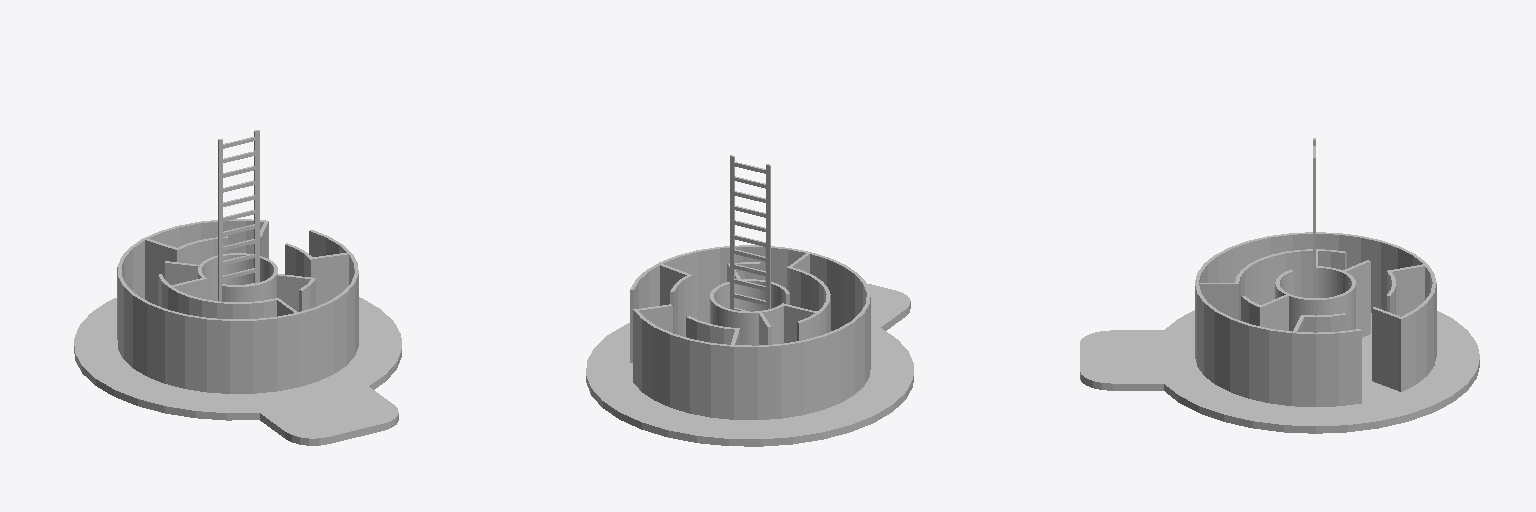
The model's file is maze.obj.
The picture shows the model from 3 angles: view 1: azimuth 30°, elevation 25°; view 2: azimuth 150°, elevation 25°; view 3: azimuth 270°, elevation 25°; orthographic projection.
Parts seen in each view (by area): view 1: Cylinder.001, Cylinder.003_Cylinder.002, Cylinder, Cylinder.002_Cylinder.005, Cube.001_Cube.005, Cube.000_Cube.004, Cube.002; view 2: Cylinder.001, Cylinder.003_Cylinder.002, Cylinder, Cylinder.002_Cylinder.005, Cube.001_Cube.005, Cube.000_Cube.004, Cube.002; view 3: Cylinder.001, Cylinder.003_Cylinder.002, Cylinder, Cylinder.002_Cylinder.005.
Boxes of the visible parts, x1=… form: Cylinder.001: x1=117, y1=219, x2=358, y2=393; Cylinder.003_Cylinder.002: x1=74, y1=297, x2=401, y2=445; Cylinder: x1=144, y1=236, x2=315, y2=318; Cylinder.002_Cylinder.005: x1=165, y1=253, x2=315, y2=311; Cube.001_Cube.005: x1=222, y1=137, x2=256, y2=284; Cube.000_Cube.004: x1=254, y1=130, x2=259, y2=282; Cube.002: x1=218, y1=139, x2=222, y2=301; Cylinder.001: x1=630, y1=245, x2=870, y2=419; Cylinder.003_Cylinder.002: x1=586, y1=284, x2=913, y2=446; Cylinder: x1=670, y1=253, x2=830, y2=346; Cylinder.002_Cylinder.005: x1=710, y1=263, x2=816, y2=345; Cube.001_Cube.005: x1=733, y1=162, x2=767, y2=311; Cube.000_Cube.004: x1=730, y1=155, x2=734, y2=309; Cube.002: x1=766, y1=164, x2=770, y2=309; Cylinder.001: x1=1195, y1=232, x2=1436, y2=406; Cylinder.003_Cylinder.002: x1=1080, y1=310, x2=1479, y2=433; Cylinder: x1=1199, y1=249, x2=1427, y2=332; Cylinder.002_Cylinder.005: x1=1258, y1=251, x2=1370, y2=337.
Size of the model in its own units: 8.16 by 5.93 by 9.94.